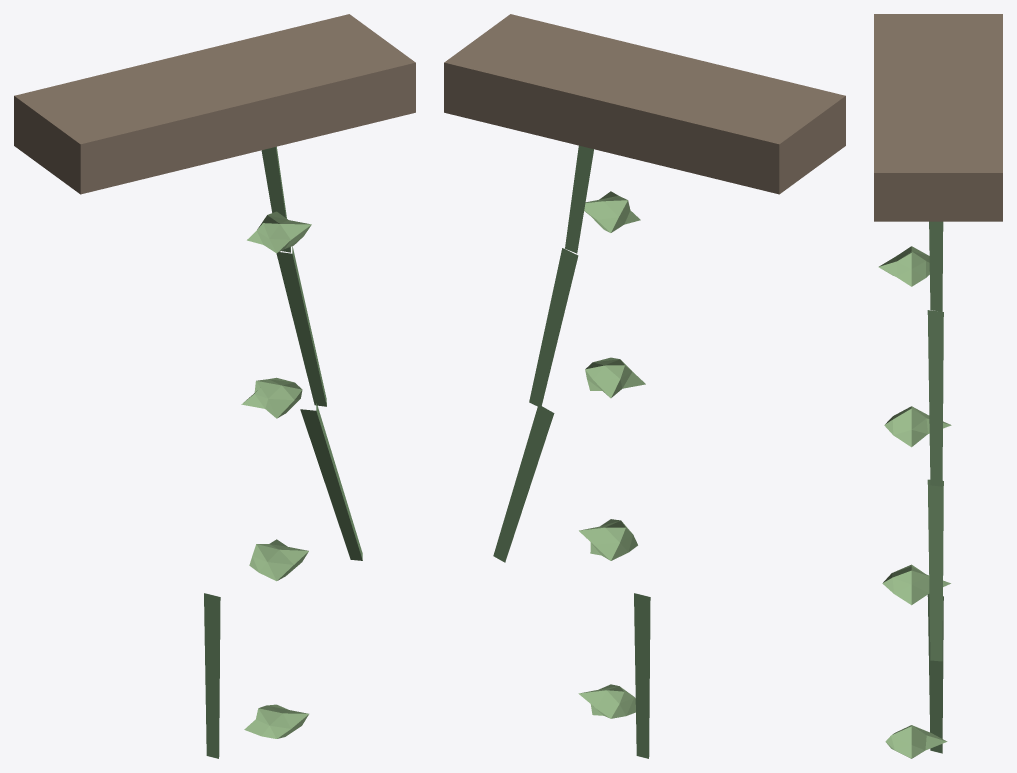
Rendered from vine_v37.glb.
3 renders of one model, left to right at view 1: azimuth 30°, elevation 25°; view 2: azimuth 150°, elevation 25°; view 3: azimuth 270°, elevation 25°, orthographic. The views are drawn at different scales.
Parts seen in each view (by area): view 1: lod0; view 2: lod0; view 3: lod0.
Part boxes in pixels (x1,y1,x2,y2): lod0: (14,14,415,758); lod0: (444,14,845,758); lod0: (874,14,1002,758).
Size of what is drawn, in the model's own units: 0.7 by 1.35 by 0.24.
